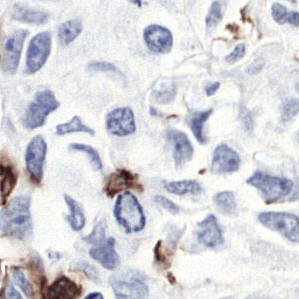Lymphocyte: (105, 167, 142, 194)
